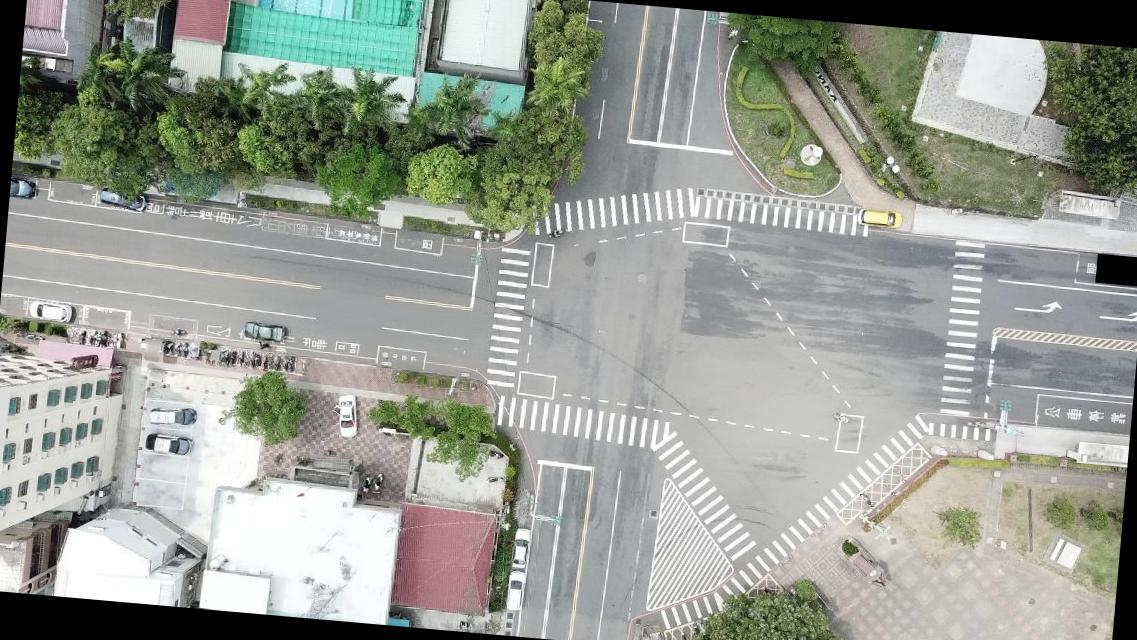vehicle: (96, 186, 150, 214), (143, 430, 194, 458), (332, 394, 361, 440), (27, 298, 74, 325), (148, 406, 198, 428), (856, 208, 902, 230), (243, 321, 286, 344), (505, 570, 525, 613), (512, 527, 530, 568), (10, 179, 36, 201)
